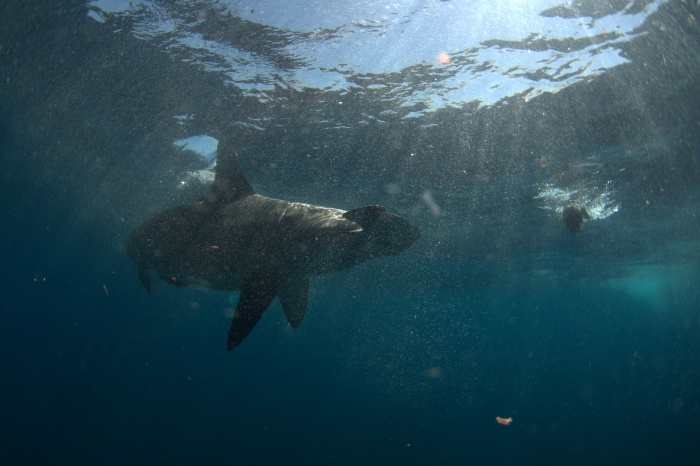Hammer: (126, 124, 423, 362)
